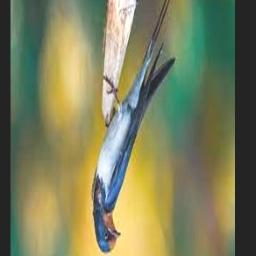Swallow: (93, 0, 175, 254)
